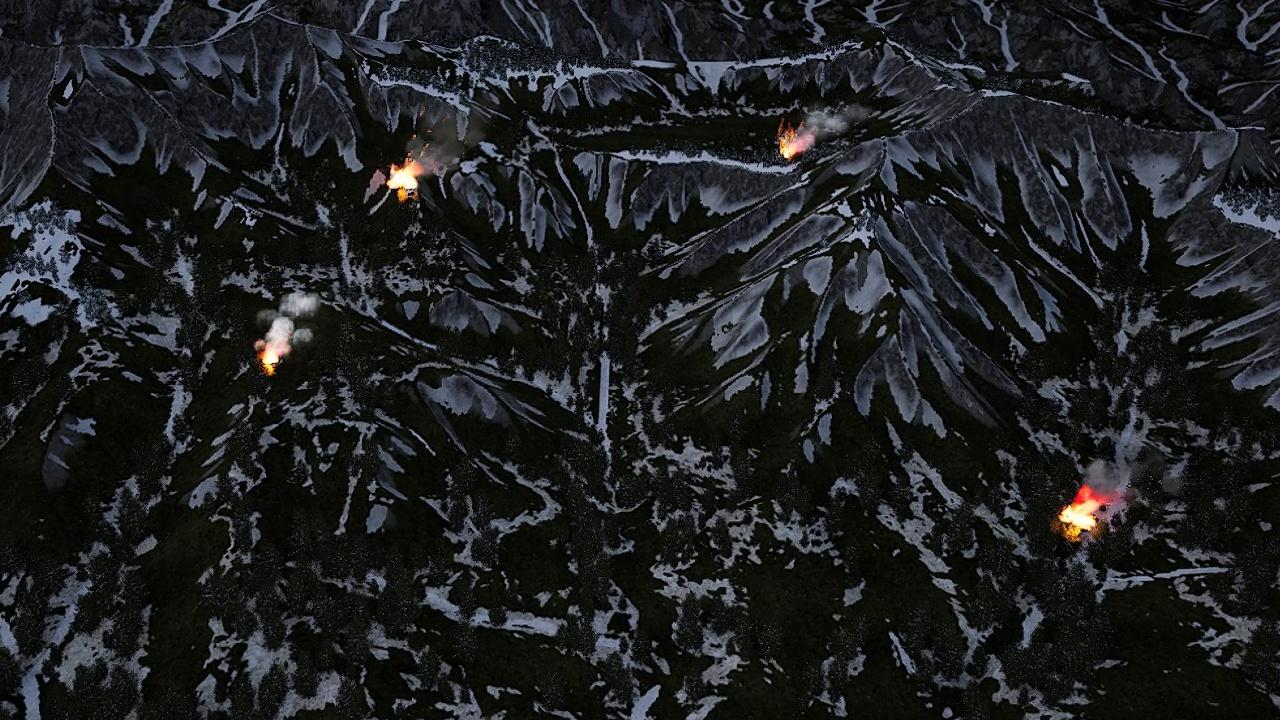fire: (1058, 492, 1100, 534), (390, 162, 422, 194), (779, 133, 801, 160), (262, 346, 283, 374)
smoke: (408, 108, 488, 173), (1082, 456, 1149, 516), (259, 291, 326, 350), (794, 100, 876, 142)
